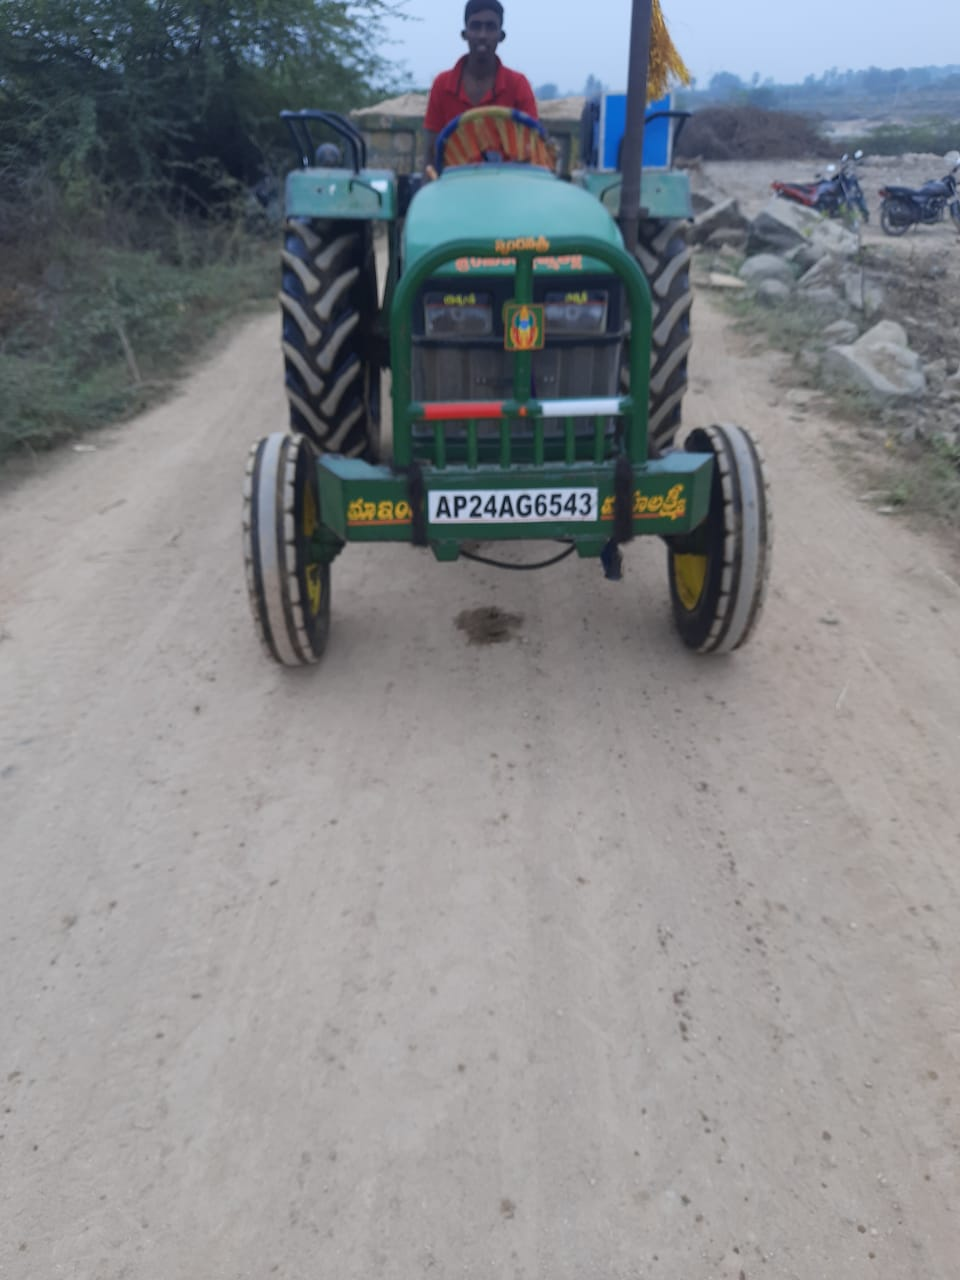num_plate: (428, 488, 597, 523)
